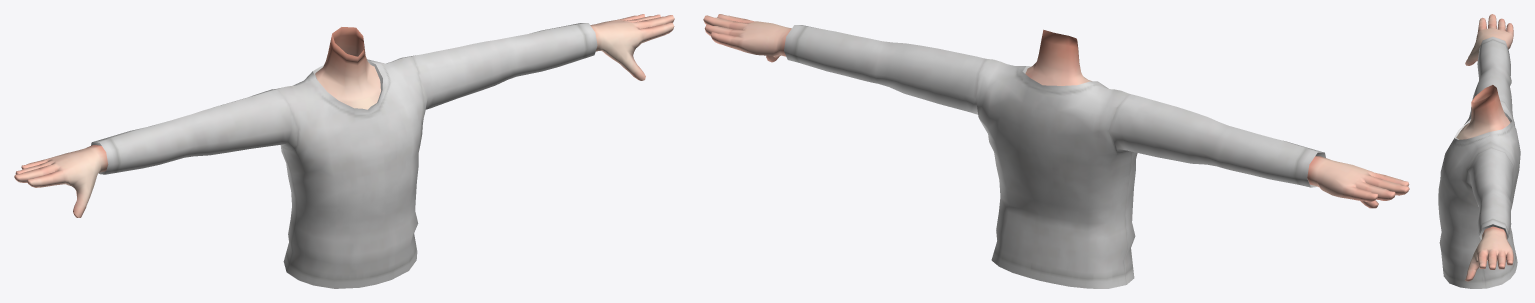
File: tr0730_00_upb00.gltf
The picture shows the model from 3 angles, left to right: view 1: azimuth 30°, elevation 25°; view 2: azimuth 150°, elevation 25°; view 3: azimuth 270°, elevation 25°; orthographic projection. The views are drawn at different scales.
Visible parts, largest first — view 1: upb00_upperbody_mesh_shape:upperbody00, upb00_upperskin_mesh_shape:upperbody00_skin; view 2: upb00_upperbody_mesh_shape:upperbody00, upb00_upperskin_mesh_shape:upperbody00_skin; view 3: upb00_upperbody_mesh_shape:upperbody00, upb00_upperskin_mesh_shape:upperbody00_skin.
Boxes of the visible parts, x1,y1,x2,y2 form: upb00_upperbody_mesh_shape:upperbody00: (91, 23, 597, 288); upb00_upperskin_mesh_shape:upperbody00_skin: (14, 14, 674, 217); upb00_upperbody_mesh_shape:upperbody00: (784, 25, 1325, 288); upb00_upperskin_mesh_shape:upperbody00_skin: (703, 14, 1409, 208); upb00_upperbody_mesh_shape:upperbody00: (1438, 36, 1520, 288); upb00_upperskin_mesh_shape:upperbody00_skin: (1456, 14, 1513, 281).
Size of what is drawn, in the model's own units: 1.63 by 0.5518 by 0.2257.
2 materials, 2 textured.
